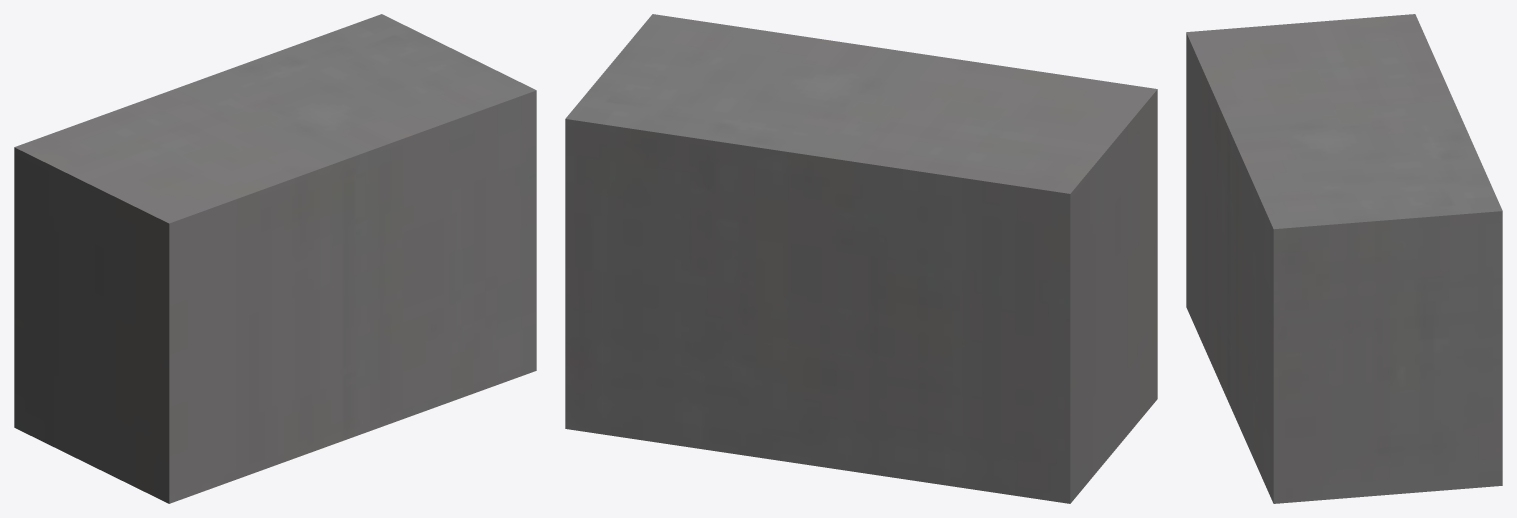
Rendered from frame__wheel_axle_yoke.glb.
The picture shows the model from 3 angles, left to right: view 1: azimuth 30°, elevation 25°; view 2: azimuth 150°, elevation 25°; view 3: azimuth 270°, elevation 25°; orthographic projection. The views are drawn at different scales.
Visible parts, largest first — view 1: world; view 2: world; view 3: world.
Part boxes in pixels (left/top/right/bottom): world: left=14, top=14, right=536, bottom=503; world: left=565, top=14, right=1157, bottom=503; world: left=1186, top=14, right=1502, bottom=503.
Bounding box in the file's own units: 0.0874 × 0.052 × 0.0543.
Materials: 1 (1 with a texture image).
